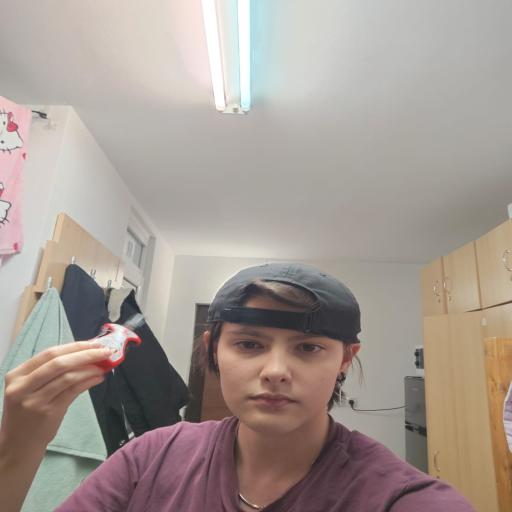Super Glue: (80, 312, 147, 369)
